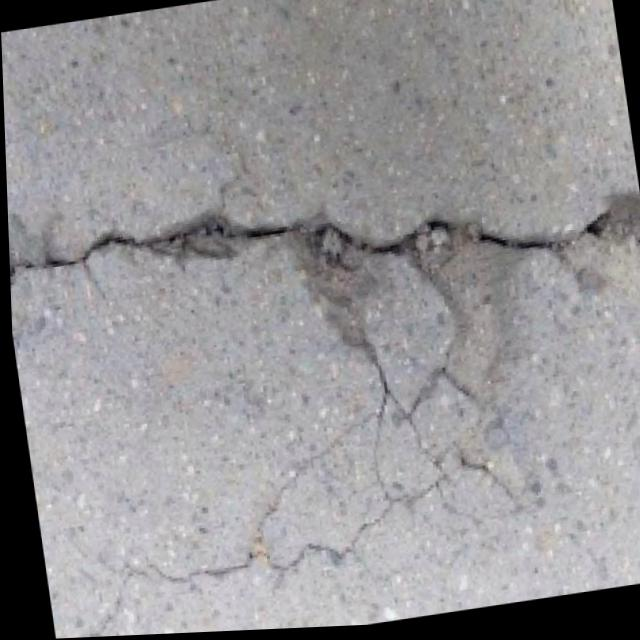Crack: (5, 145, 640, 419)
